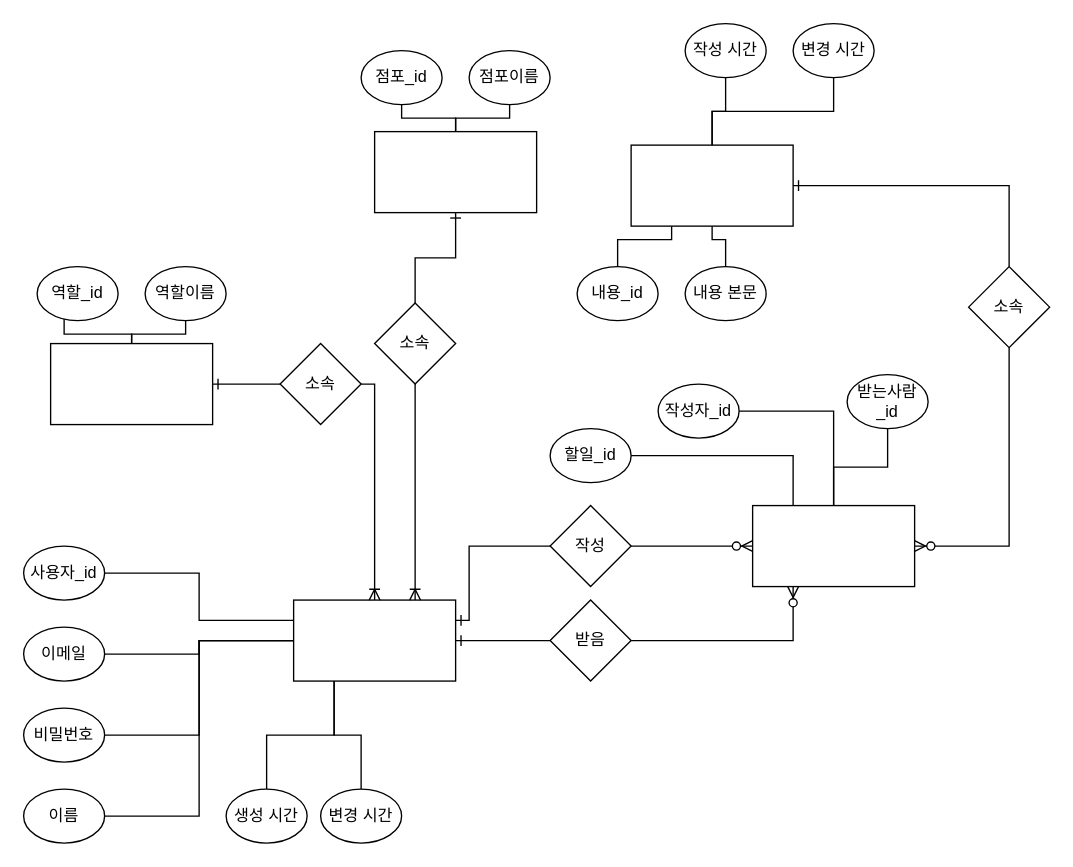
The diagram is 1073 pixels wide and 867 high, and some of its shapes have lost their labels. Here are the shapes that lost their labels. From the top down, the centre of each, then its label:
At point (455, 171): "점포".
At point (711, 185): "할일 내용".
At point (131, 383): "사용자 역할".
At point (833, 545): "할 일".
At point (374, 640): "사용자".
